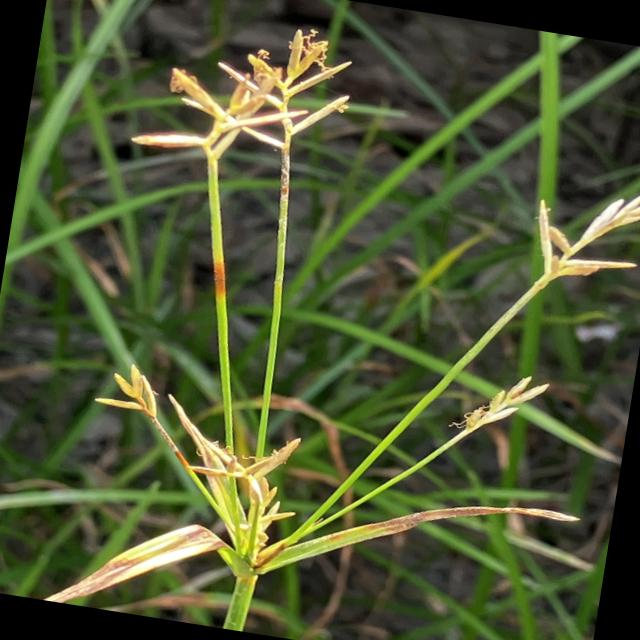cyperus: (71, 4, 640, 640), (69, 355, 391, 603), (449, 149, 640, 467), (123, 0, 397, 209)
